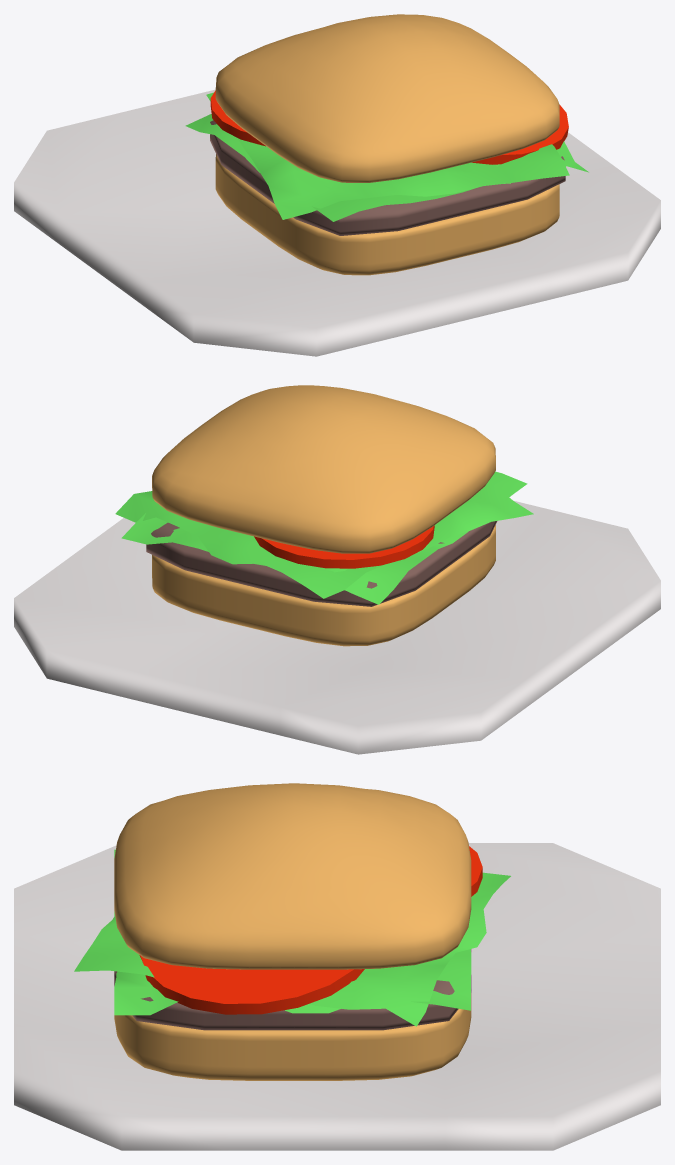
The model's file is hamburger_plate.fbx.
The picture shows the model from 3 angles, top to bottom: view 1: azimuth 30°, elevation 25°; view 2: azimuth 150°, elevation 25°; view 3: azimuth 270°, elevation 25°; orthographic projection. The views are drawn at different scales.
Visible parts, largest first — view 1: hamburgerFries_plate:Hamburger:pCube4, hamburgerFries_plate:pCube4; view 2: hamburgerFries_plate:pCube4, hamburgerFries_plate:Hamburger:pCube4; view 3: hamburgerFries_plate:pCube4, hamburgerFries_plate:Hamburger:pCube4.
Boxes of the visible parts, x1,y1,x2,y2 form: hamburgerFries_plate:Hamburger:pCube4: (185,14,588,275); hamburgerFries_plate:pCube4: (14,89,660,356); hamburgerFries_plate:pCube4: (14,500,660,754); hamburgerFries_plate:Hamburger:pCube4: (115,385,533,646); hamburgerFries_plate:pCube4: (14,843,660,1150); hamburgerFries_plate:Hamburger:pCube4: (74,783,510,1080).
Size of the model in its own units: 0.4064 by 0.1671 by 0.4064.
2 materials, 1 textured.
